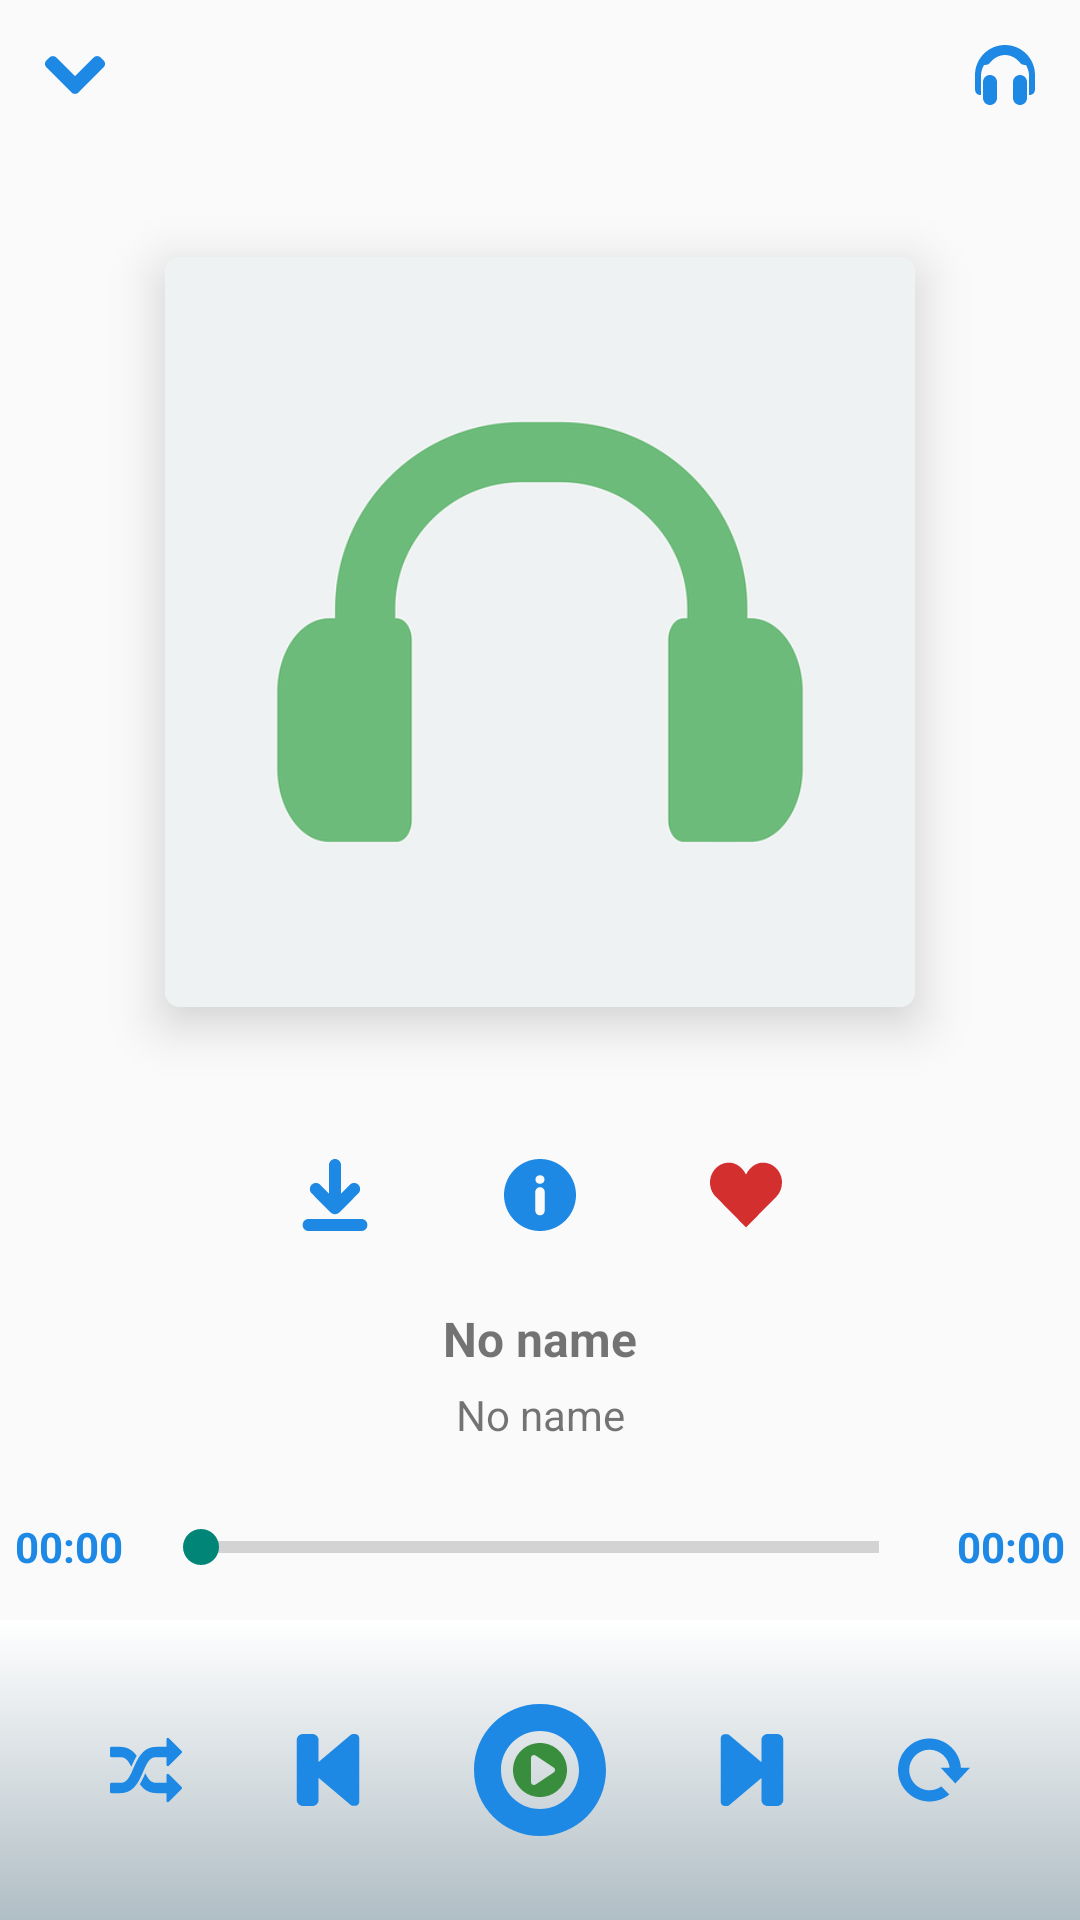

Point at icon controls on the screen. Image size 1080×1920, points as (x,y).
close: (75,75)
download: (335,1195)
favorite: (746,1194)
info: (540,1195)
loop all: (934,1772)
next: (752,1770)
now playing: (1005,75)
play: (540,1770)
previous: (328,1770)
shuffle: (146,1771)
